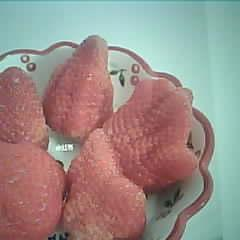straw-ripe: (65, 132, 147, 240)
